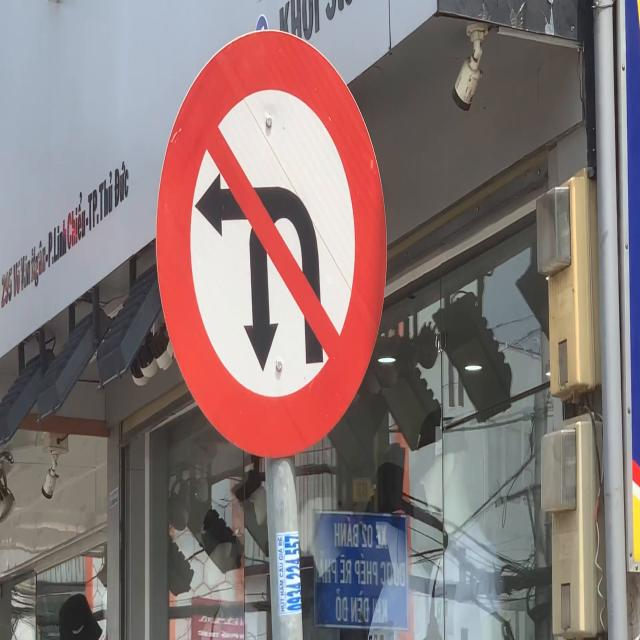Cam con lai: (153, 31, 387, 462)
